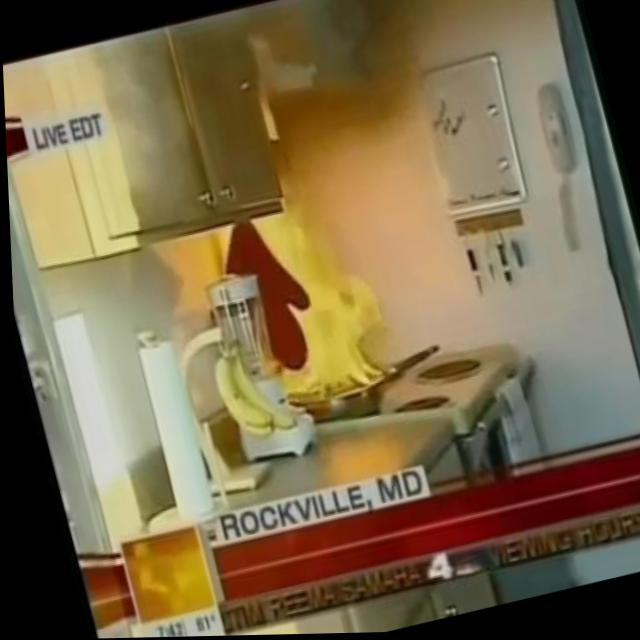fire: (227, 176, 401, 411)
